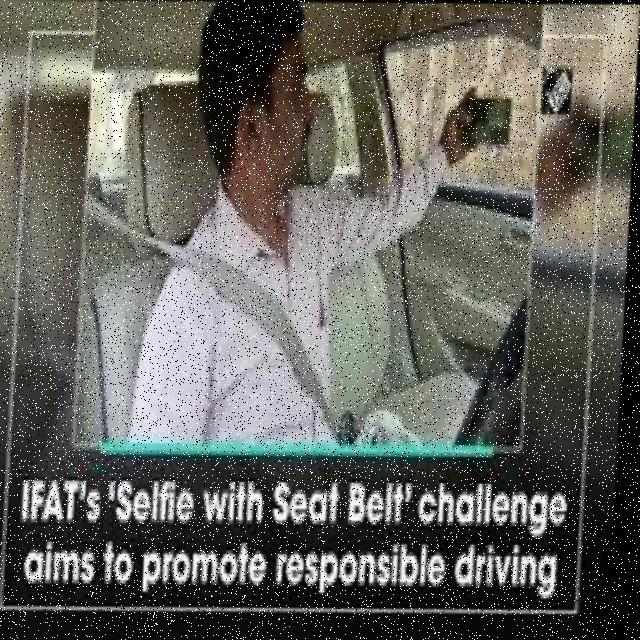seatbelt: (137, 180, 346, 432)
